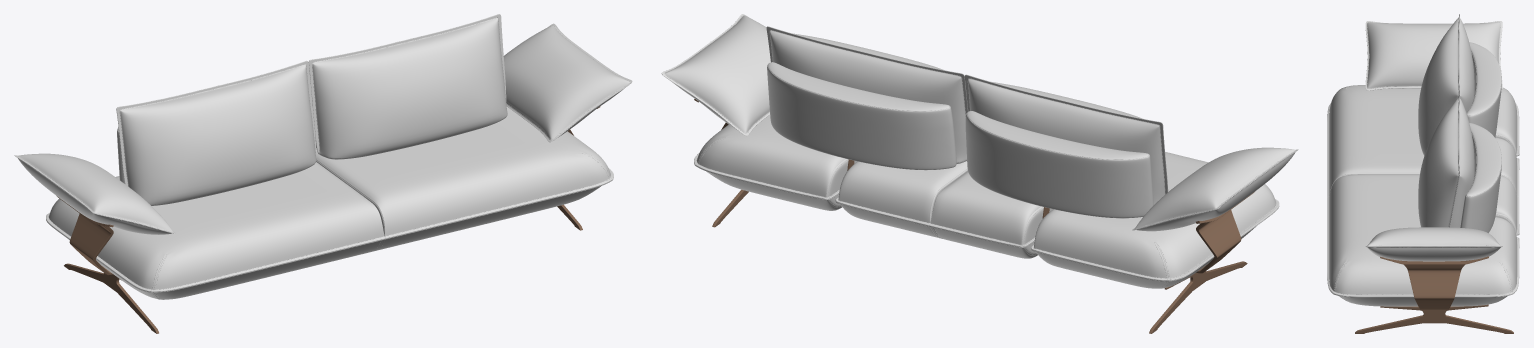
File: ST_HILKER_BERLIN_3STR.glb
The picture shows the model from 3 angles, left to right: view 1: azimuth 30°, elevation 25°; view 2: azimuth 150°, elevation 25°; view 3: azimuth 270°, elevation 25°; orthographic projection. The views are drawn at different scales.
Visible parts, largest first — view 1: ST_HILKER_BERLIN_3STR; view 2: ST_HILKER_BERLIN_3STR; view 3: ST_HILKER_BERLIN_3STR.
Part boxes in pixels (bbox=[...]): ST_HILKER_BERLIN_3STR: bbox=[14, 14, 632, 333]; ST_HILKER_BERLIN_3STR: bbox=[661, 14, 1298, 333]; ST_HILKER_BERLIN_3STR: bbox=[1327, 14, 1519, 333].
Bounding box in the file's own units: 3.26 × 1.02 × 1.17.
